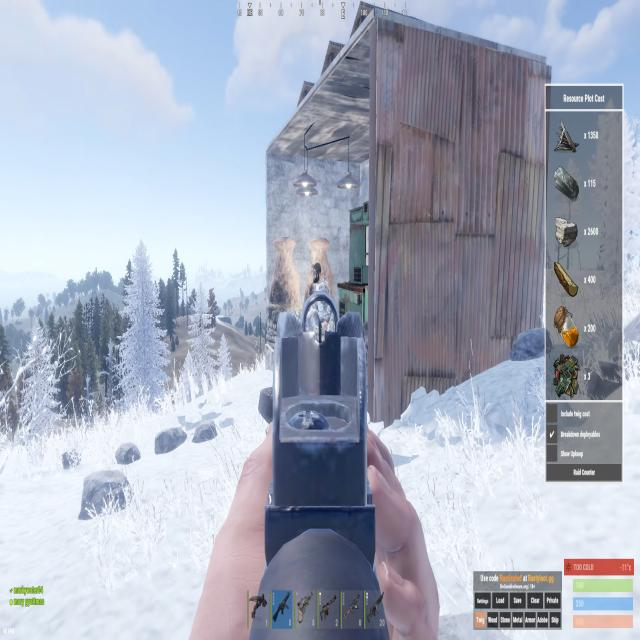Player: (310, 261, 338, 339)
